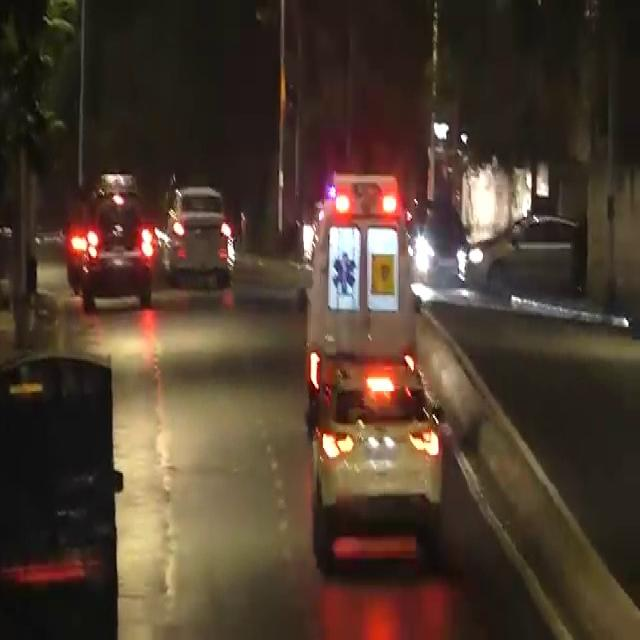ambulance: (312, 168, 438, 400)
